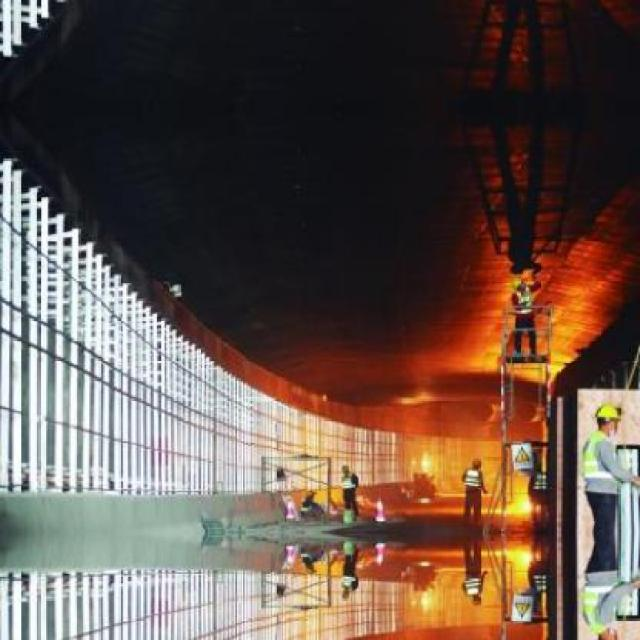helmet: (592, 396, 620, 432), (508, 275, 526, 288), (466, 456, 482, 470), (590, 631, 622, 638), (466, 593, 482, 607)
